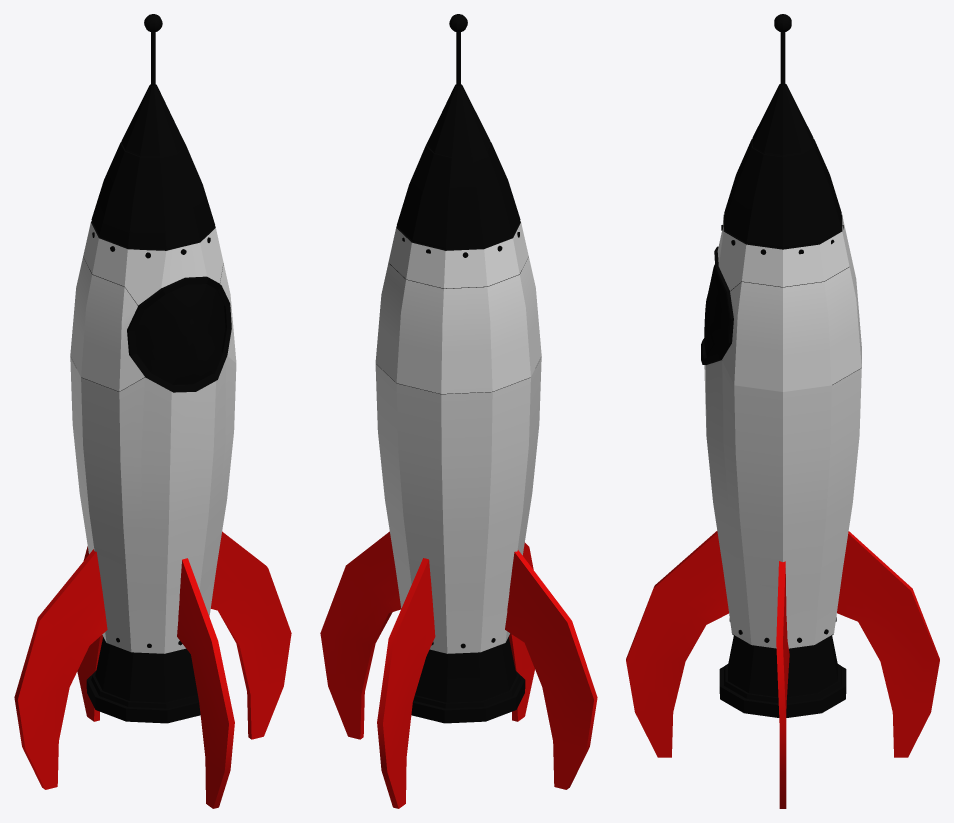
The picture shows the model from 3 angles, left to right: view 1: azimuth 30°, elevation 25°; view 2: azimuth 150°, elevation 25°; view 3: azimuth 270°, elevation 25°; orthographic projection.
Visible parts, largest first — view 1: scifi_cartoon_rocket; view 2: scifi_cartoon_rocket; view 3: scifi_cartoon_rocket.
Boxes of the visible parts, x1,y1,x2,y2 form: scifi_cartoon_rocket: (14,14,291,808); scifi_cartoon_rocket: (320,14,597,808); scifi_cartoon_rocket: (626,14,939,808).
Size of the model in its own units: 5.28 by 13.76 by 5.28.
